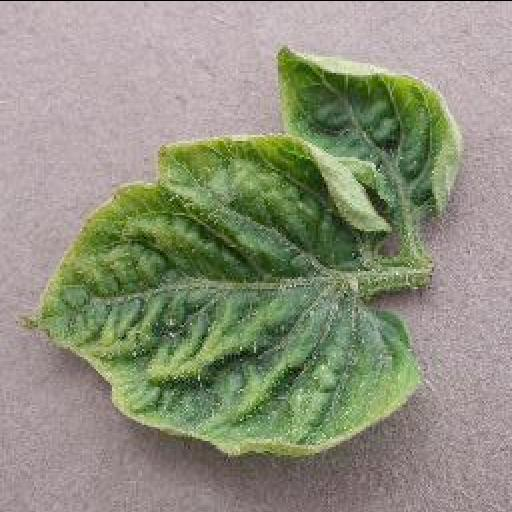disease_tomato: (22, 130, 416, 458), (278, 46, 468, 225)
